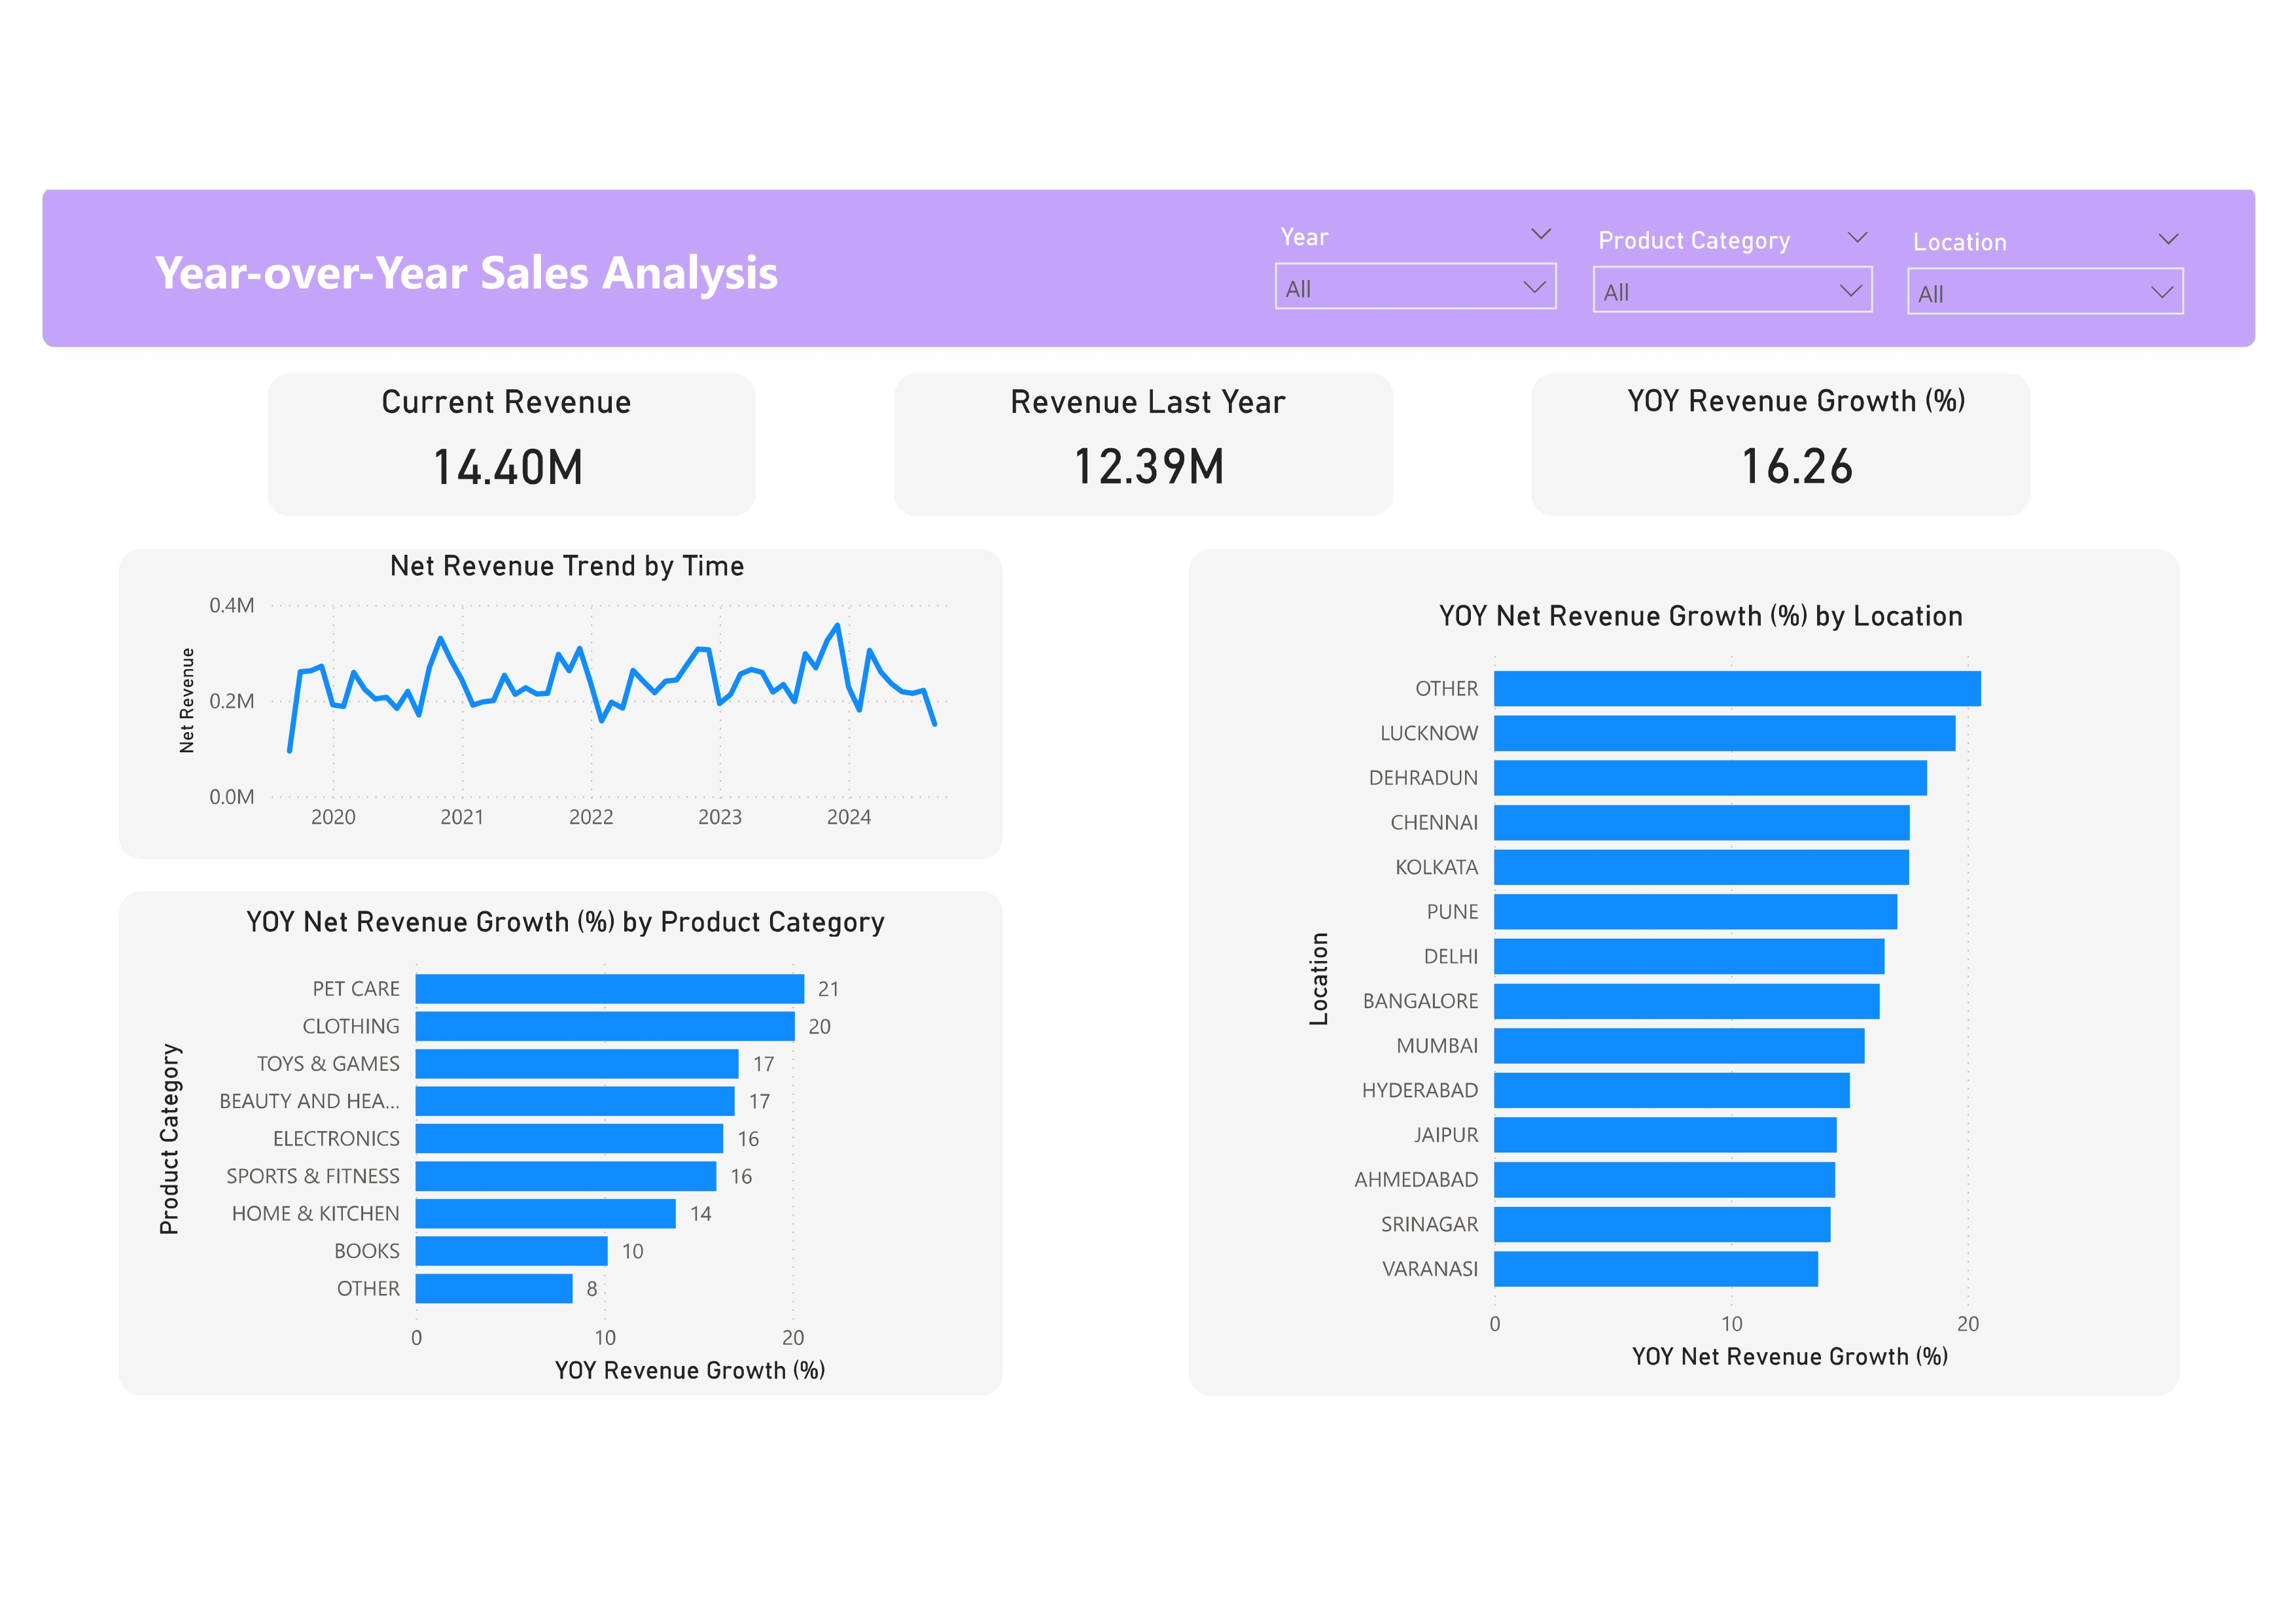

What the dashboard file says about the page in this screenshot:
{"tool":"powerbi","page":{"name":"Year-over-Year Revenue Analysis","canvas":[1280,720],"ordinal":1},"visuals":[{"type":"card","title":"Current Revenue","fields":{"Values":["Ecommerce_sales.current revenue"]},"box":[164.3,111.4,208.6,71.4],"z":0},{"type":"lineChart","title":"Net Revenue Trend by Time","fields":{"Y":["Sum(Ecommerce_sales.Net_amount)"],"Category":["Ecommerce_sales.Purchase_date.Variation.Date Hierarchy.Year","Ecommerce_sales.Purchase_date.Variation.Date Hierarchy.Quarter","Ecommerce_sales.Purchase_date.Variation.Date Hierarchy.Month"]},"box":[72.9,207.1,461.4,174.3],"z":1000},{"type":"barChart","title":"YOY Net Revenue Growth (%) by Product Category","fields":{"Category":["Ecommerce_sales.Product_category"],"Y":["Ecommerce_sales.YOY Revenue Growth %"]},"box":[59.5,413.1,485.7,283.3],"z":2000},{"type":"barChart","title":"YOY Net Revenue Growth (%) by Location","fields":{"Y":["Ecommerce_sales.YOY Revenue Growth %"],"Category":["Ecommerce_sales.Location"]},"box":[725,235.7,469.1,452.4],"z":3000},{"type":"slicer","fields":{"Values":["Date.Date.Variation.Date Hierarchy.Year"]},"box":[702.9,14.3,182.9,68.6],"z":4000},{"type":"slicer","fields":{"Values":["Ecommerce_sales.Product_category"]},"box":[887.1,15.7,181.4,65.7],"z":5000},{"type":"slicer","fields":{"Values":["Ecommerce_sales.Location"]},"box":[1068.6,17.1,180,65.7],"z":6000},{"type":"card","title":"Revenue Last Year","fields":{"Values":["Ecommerce_sales.Revenue Last Year"]},"box":[535.6,111.1,207.8,71.1],"z":7000},{"type":"card","title":"YOY Revenue Growth (%)","fields":{"Values":["Ecommerce_sales.YOY Revenue Growth %"]},"box":[910,111.4,208.6,71.4],"z":8000},{"type":"textbox","box":[60,22.9,385.7,51.4],"z":9000}]}

Visuals, with their boxes on the page's 1280x720 design canvas (x1, y1, x2, y2). These are canvas units, not pixel positions in the 2296x1623 screenshot, which may show the page scaled, cropped or inside an application window:
"Current Revenue" card: (left=164, top=111, right=373, bottom=183)
"Net Revenue Trend by Time" lineChart: (left=73, top=207, right=534, bottom=381)
"YOY Net Revenue Growth (%) by Product Category" barChart: (left=60, top=413, right=545, bottom=696)
"YOY Net Revenue Growth (%) by Location" barChart: (left=725, top=236, right=1194, bottom=688)
slicer - Date.Date.Variation.Date Hierarchy.Year: (left=703, top=14, right=886, bottom=83)
slicer - Ecommerce_sales.Product_category: (left=887, top=16, right=1068, bottom=81)
slicer - Ecommerce_sales.Location: (left=1069, top=17, right=1249, bottom=83)
"Revenue Last Year" card: (left=536, top=111, right=743, bottom=182)
"YOY Revenue Growth (%)" card: (left=910, top=111, right=1119, bottom=183)
textbox: (left=60, top=23, right=446, bottom=74)
